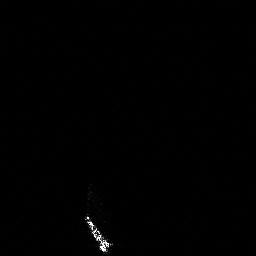ship: (83, 215, 115, 254)
